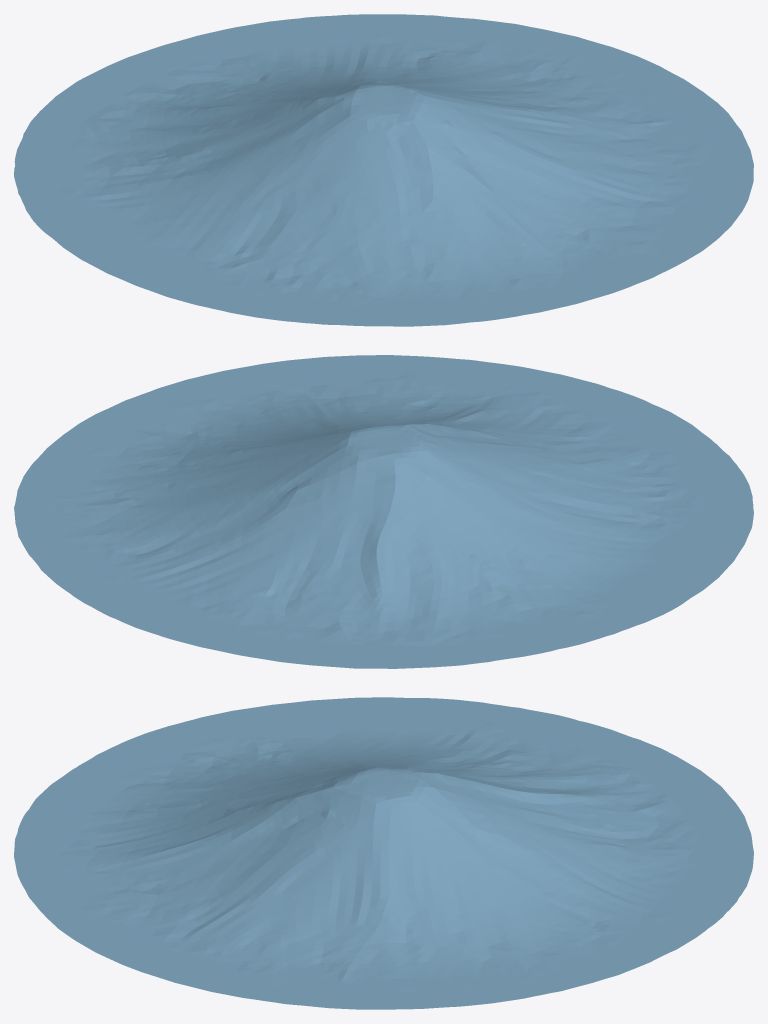
The model's file is level_2.glb.
The picture shows the model from 3 angles, top to bottom: view 1: azimuth 30°, elevation 25°; view 2: azimuth 150°, elevation 25°; view 3: azimuth 270°, elevation 25°; orthographic projection.
Parts seen in each view (by area): view 1: world; view 2: world; view 3: world.
Boxes of the visible parts, left/top/right/bottom form: world: left=14, top=14, right=753, bottom=326; world: left=14, top=355, right=753, bottom=668; world: left=14, top=697, right=753, bottom=1009.
Size of the model in its own units: 0.6396 by 0.0677 by 0.6402.
